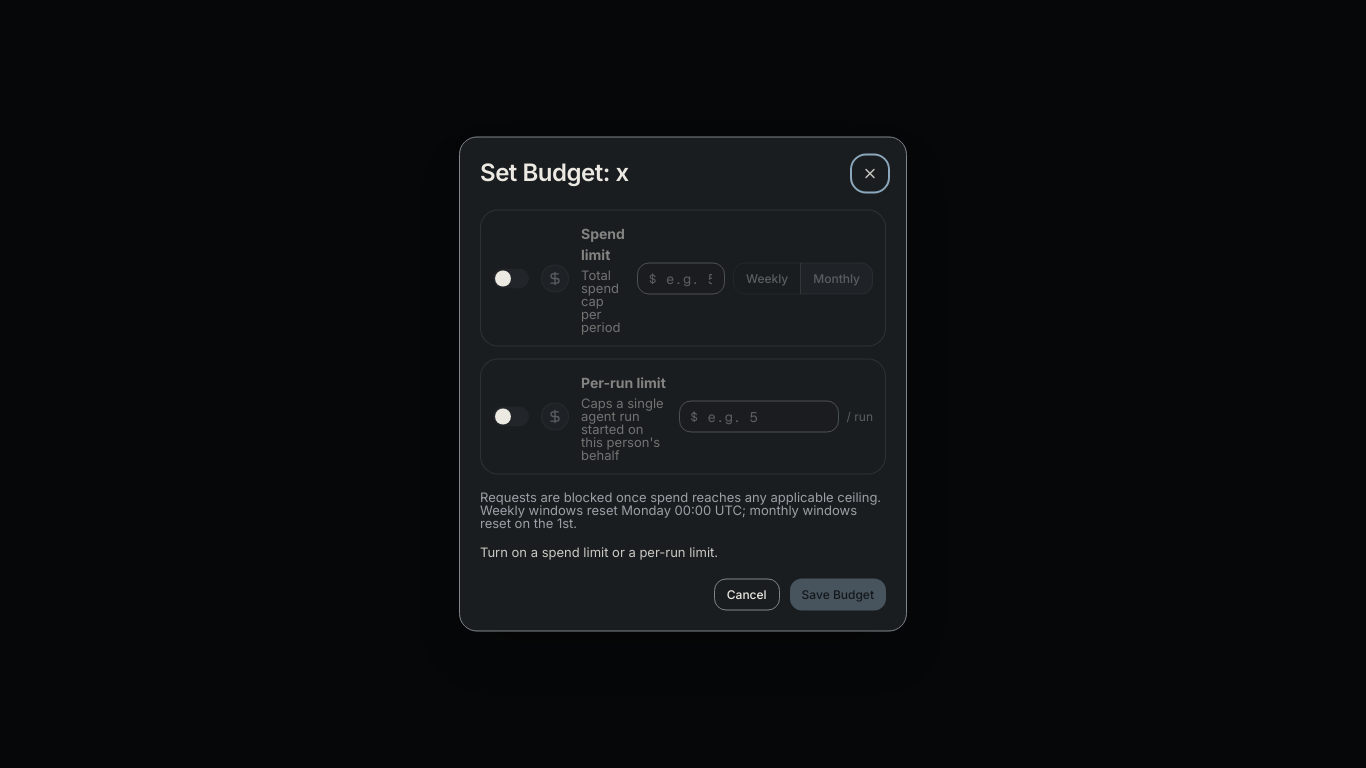
Test: BudgetEditModal › blocks Save for a row that is on with no amount or a negative one
Click the switch named "Spend limit" at (511, 278), box x1=493 y1=268 x2=529 y2=288
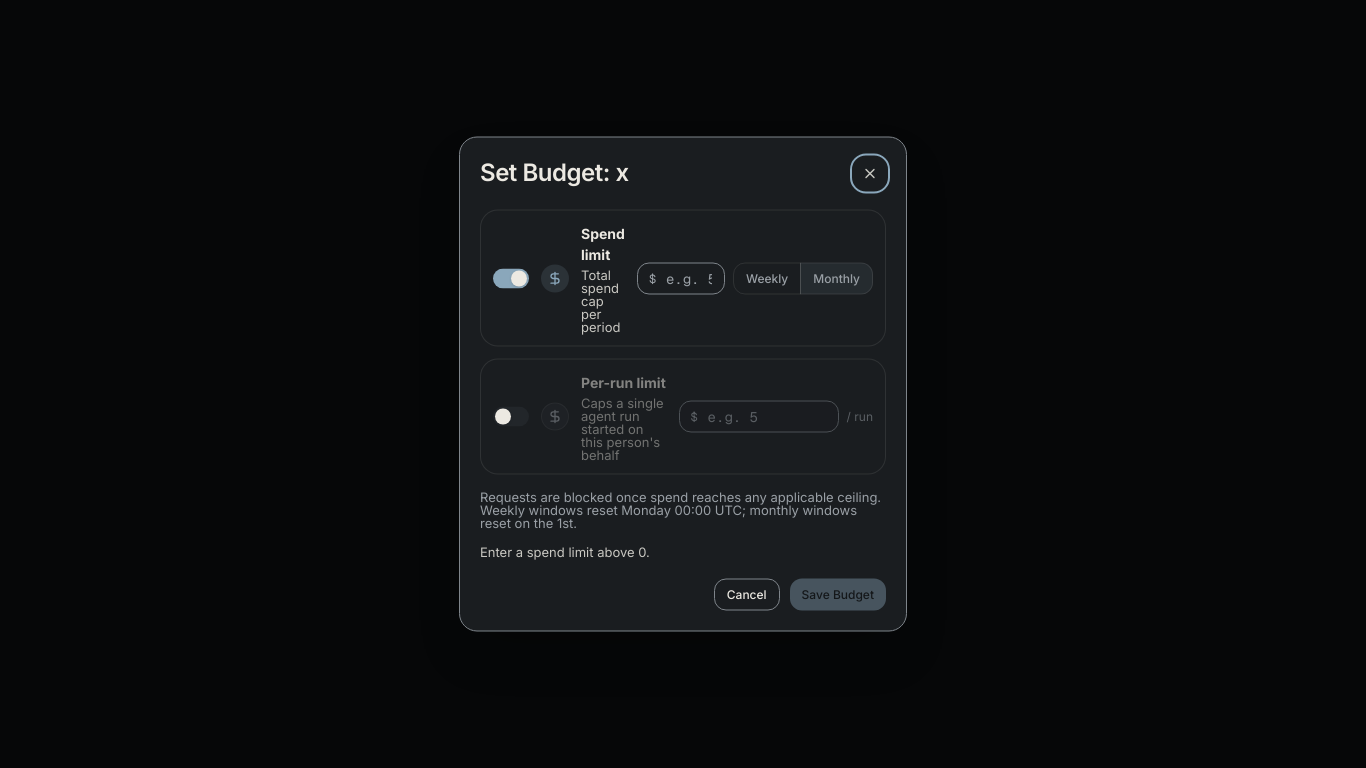
Expected: the button "Save Budget" is disabled, x1=790 y1=578 x2=886 y2=610
Now the text "Enter a spend limit above 0." is shown, box x1=480 y1=544 x2=650 y2=560
Type "-4" into the field named "Spend limit in USD" at (681, 278), box x1=637 y1=262 x2=725 y2=294
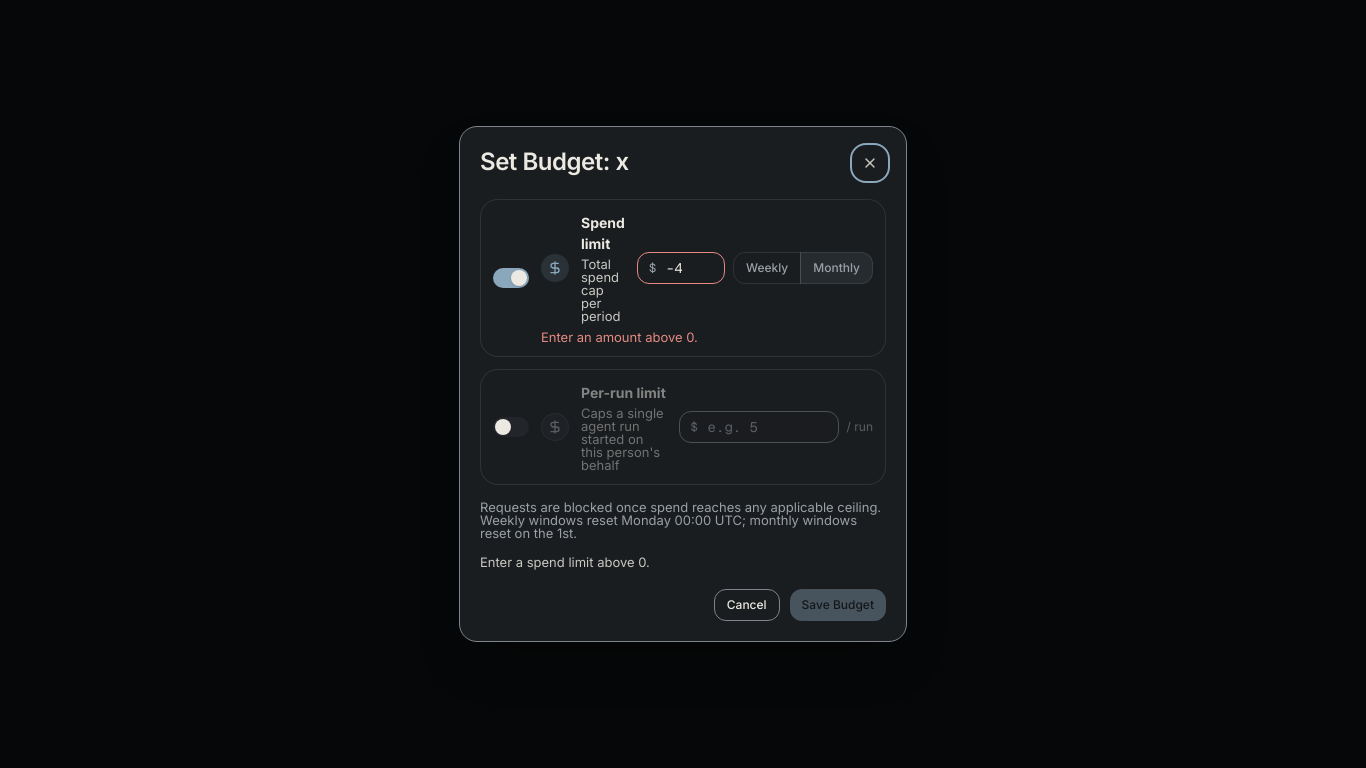
Expected: the button "Save Budget" is disabled, x1=790 y1=589 x2=886 y2=621
Now the text "Enter an amount above 0." is shown, box x1=541 y1=329 x2=698 y2=345
